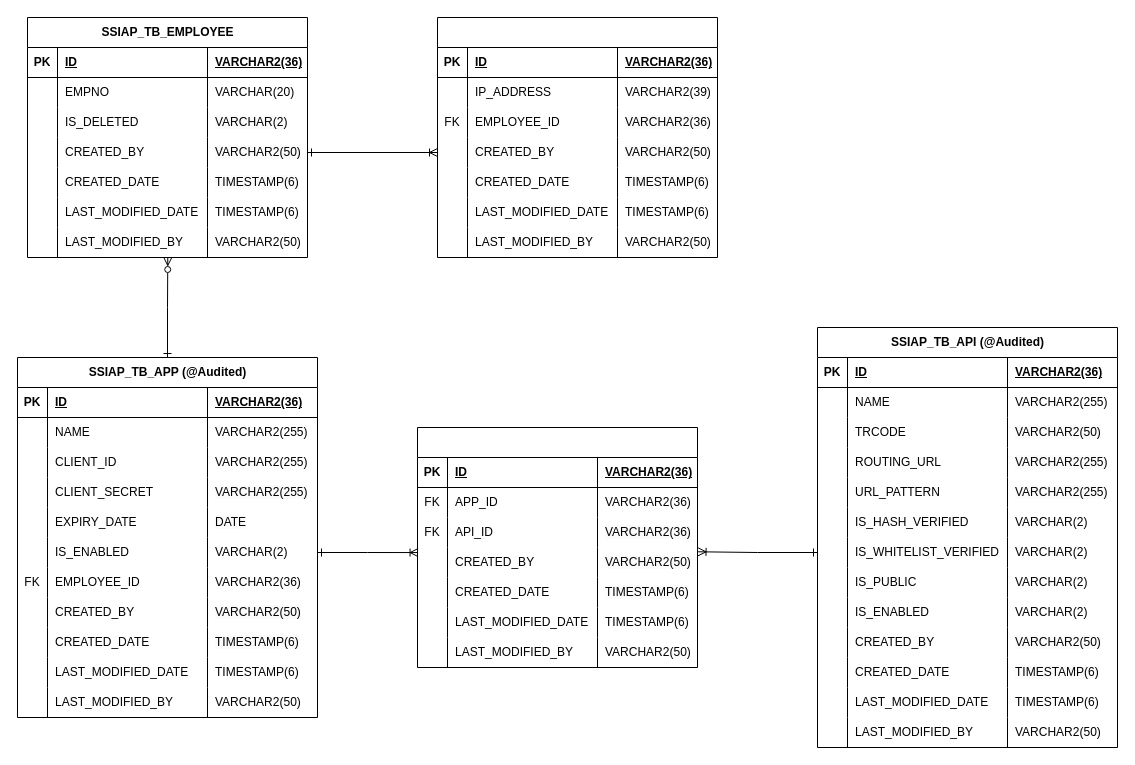
This 1135x765 diagram has some shape labels left out. The shapes that lost their labels are listed below. From the top down, each one's box as (x1, y1, x2, y2) in pixels, then its label:
(436, 16, 718, 258): SSIAP_TB_IP
(416, 426, 698, 668): SSIAP_TB_APP_API_MAPPING (@Audited)
